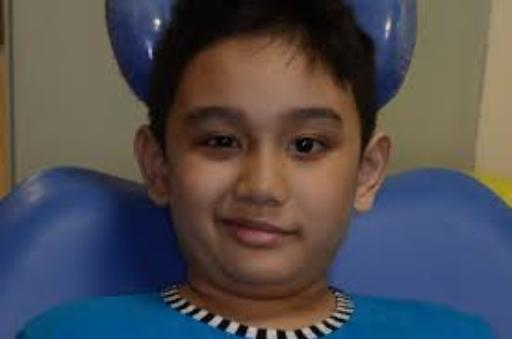left_eye: (289, 137, 331, 156)
left_lip_corner: (283, 229, 303, 242)
right_eye: (196, 135, 244, 151)
right_lip_corner: (213, 215, 237, 230)
